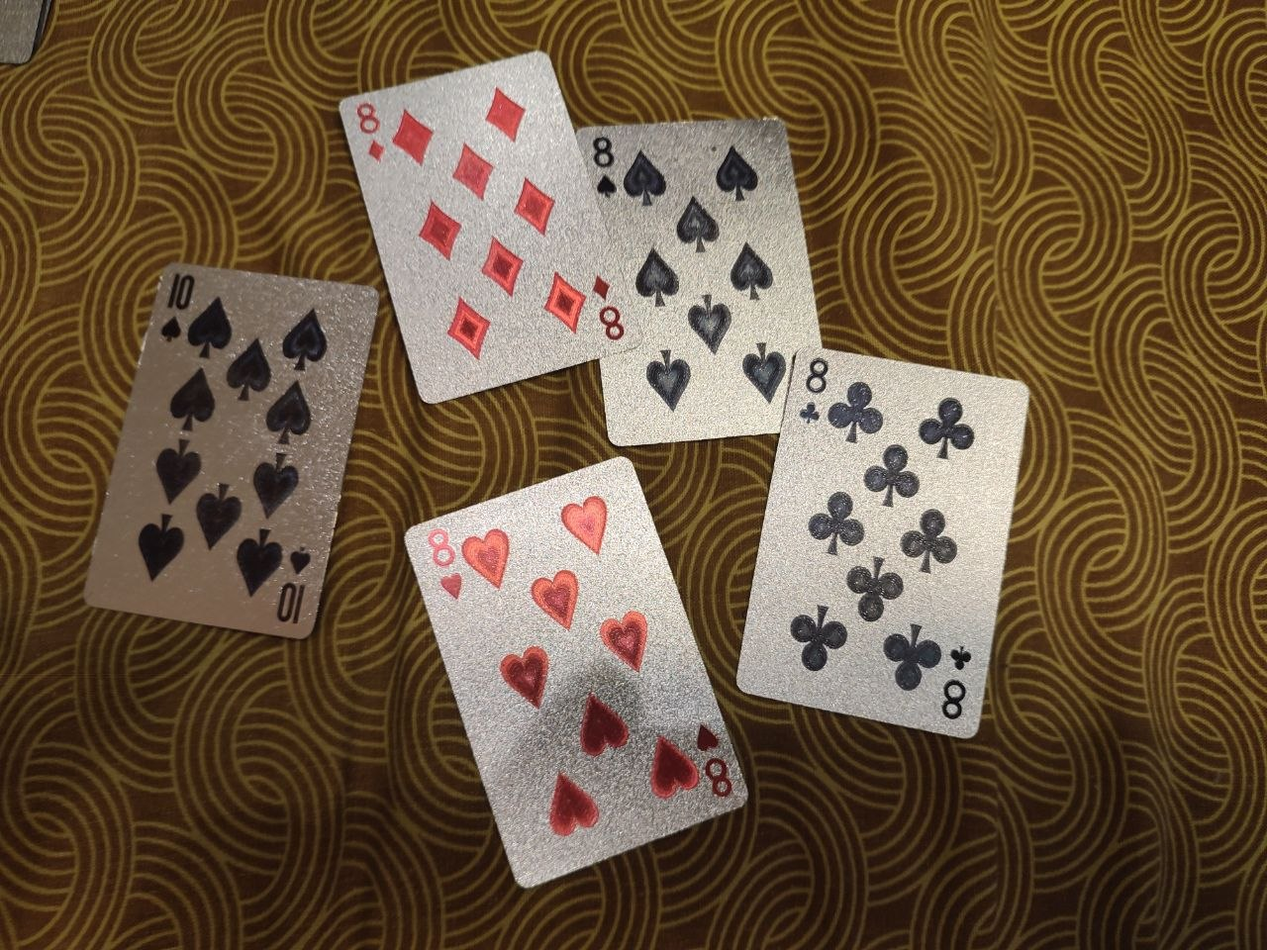10S: (82, 261, 381, 642)
8C: (735, 345, 1028, 738)
8D: (337, 49, 646, 404)
8H: (403, 456, 749, 887)
8S: (576, 116, 824, 446)
